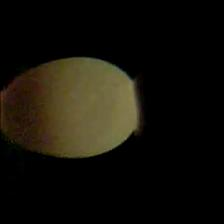infertile: (0, 57, 145, 158)
